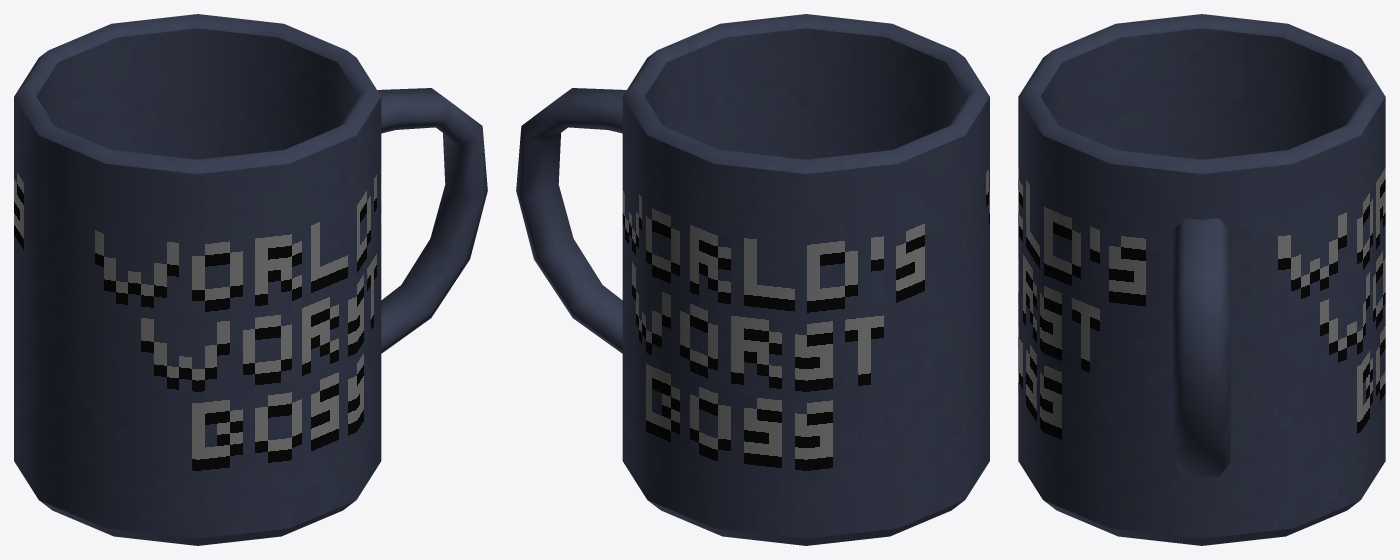
The model's file is cup_etx_1.glb.
The picture shows the model from 3 angles, left to right: view 1: azimuth 30°, elevation 25°; view 2: azimuth 150°, elevation 25°; view 3: azimuth 270°, elevation 25°; orthographic projection.
Parts seen in each view (by area): view 1: cup_etx_1; view 2: cup_etx_1; view 3: cup_etx_1.
Boxes of the visible parts, x1,y1,x2,y2 form: cup_etx_1: (14, 14, 487, 545); cup_etx_1: (516, 14, 989, 545); cup_etx_1: (1018, 14, 1385, 545).
Bounding box in the file's own units: 0.1663 × 0.14 × 0.12.
Materials: 1 (1 with a texture image).
